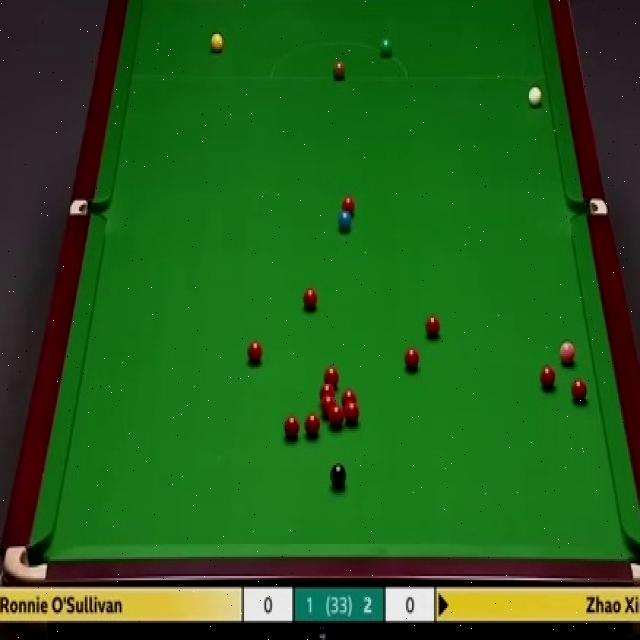black-ball: (329, 463, 347, 486)
blue-ball: (338, 208, 352, 234)
brown-ball: (332, 60, 345, 81)
green-ball: (380, 36, 392, 58)
pink-ball: (558, 341, 577, 366)
red-ball: (283, 414, 301, 440), (540, 363, 556, 390), (570, 378, 588, 402), (302, 286, 318, 312), (305, 413, 321, 438), (424, 314, 441, 337), (345, 400, 360, 426), (403, 347, 419, 370), (323, 365, 339, 388), (247, 339, 262, 363), (329, 405, 344, 428), (318, 383, 335, 402), (322, 395, 336, 417), (342, 195, 355, 218), (341, 387, 358, 404)
white-ball: (528, 84, 541, 107)
yellow-ball: (210, 33, 223, 55)
